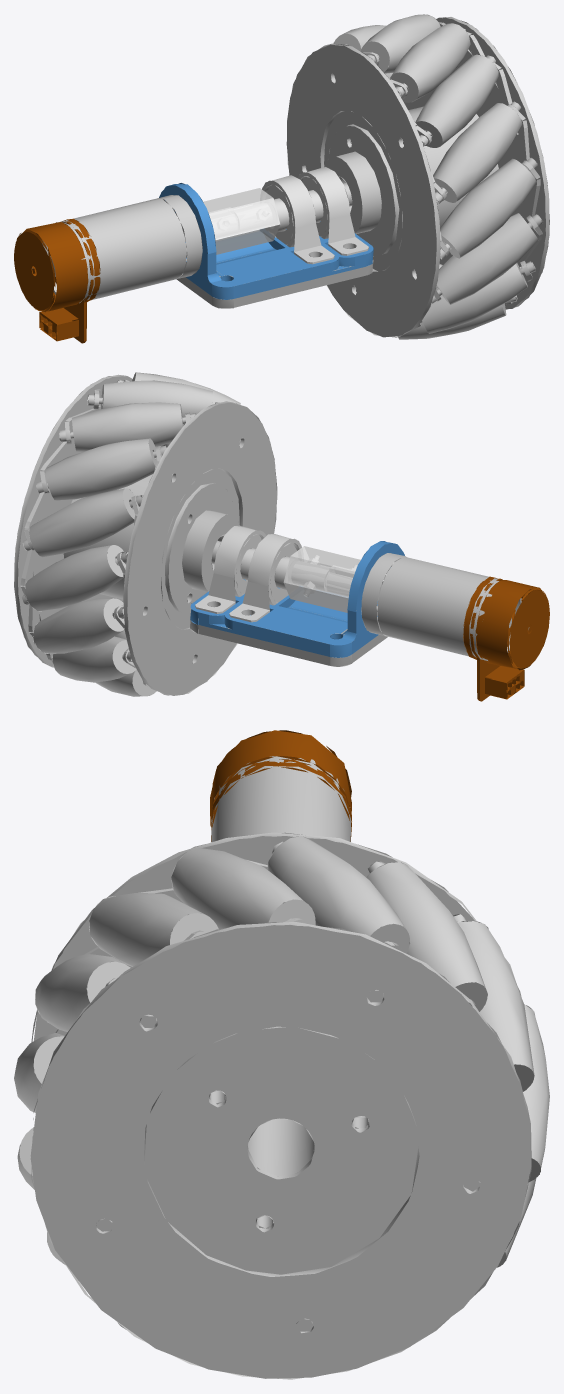
Rendered from motor.dae.
3 views of the same model, one above another, from view 1: azimuth 30°, elevation 25°; view 2: azimuth 150°, elevation 25°; view 3: azimuth 270°, elevation 25° (orthographic). The views are drawn at different scales.
Visible parts, largest first — view 1: motor_assembly; view 2: motor_assembly; view 3: motor_assembly.
Part boxes in pixels (left/top/right/bottom): motor_assembly: left=14, top=14, right=549, bottom=343; motor_assembly: left=14, top=372, right=549, bottom=701; motor_assembly: left=14, top=730, right=549, bottom=1379.
Bounding box in the file's own units: 0.2579 × 0.1625 × 0.1622.
